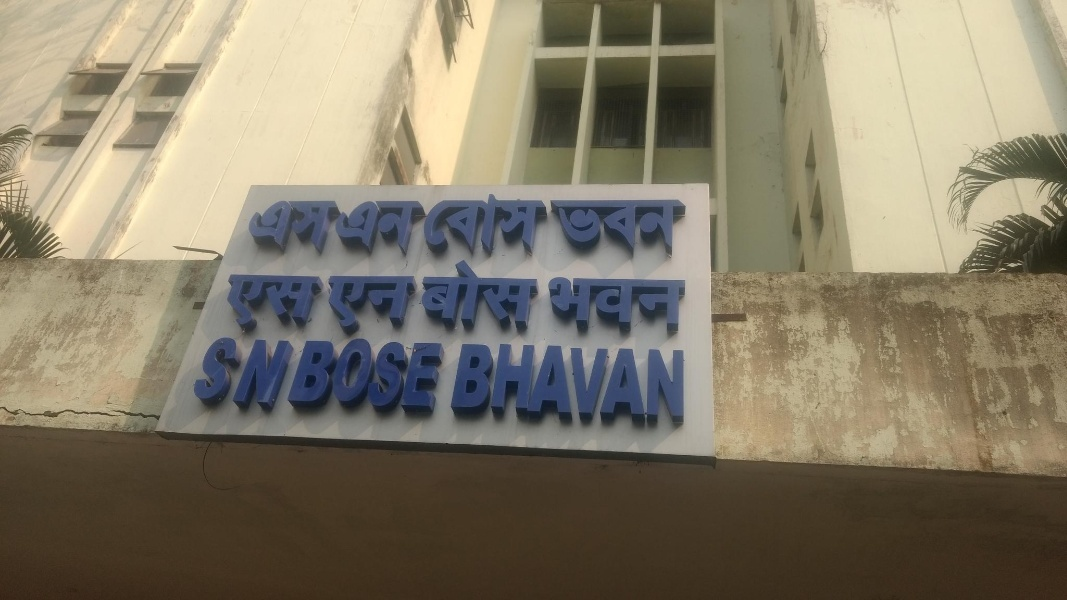text: (465, 342, 480, 432), (481, 342, 496, 432), (497, 342, 512, 432), (513, 342, 528, 432), (529, 342, 544, 432), (545, 342, 560, 432), (561, 342, 576, 432), (577, 342, 592, 432), (593, 342, 608, 432), (609, 342, 624, 432), (625, 342, 640, 432), (641, 342, 656, 432), (657, 342, 672, 432), (673, 342, 688, 432), (321, 340, 336, 423), (337, 340, 352, 423), (353, 340, 368, 423), (369, 340, 384, 423), (385, 340, 400, 423), (401, 340, 416, 423), (417, 340, 432, 423), (257, 335, 272, 417), (273, 335, 288, 417), (225, 335, 240, 415), (433, 257, 448, 337), (449, 257, 464, 337), (465, 257, 480, 337), (481, 257, 496, 337), (497, 257, 512, 337), (513, 257, 528, 337), (529, 257, 544, 337), (306, 340, 320, 423), (353, 189, 368, 260), (369, 189, 384, 260), (385, 189, 400, 260), (401, 189, 416, 260), (211, 335, 224, 415), (433, 195, 448, 262), (449, 195, 464, 262), (465, 195, 480, 262), (481, 195, 496, 262), (497, 195, 512, 262), (513, 195, 528, 262), (529, 195, 544, 262), (433, 340, 445, 423), (561, 196, 576, 260), (577, 196, 592, 260), (593, 196, 608, 260), (609, 196, 624, 260), (625, 196, 640, 260), (641, 196, 656, 260), (657, 196, 672, 260), (673, 196, 688, 260), (337, 276, 352, 340), (353, 276, 368, 340), (369, 276, 384, 340), (385, 276, 400, 340), (401, 276, 416, 340), (225, 271, 240, 334), (241, 271, 256, 334), (257, 271, 272, 334), (273, 271, 288, 334), (289, 271, 304, 334), (305, 271, 320, 334), (417, 189, 430, 260), (673, 280, 689, 337), (257, 197, 272, 257), (273, 197, 288, 257), (289, 197, 304, 257), (305, 197, 320, 257), (321, 197, 336, 257), (561, 280, 576, 337), (577, 280, 592, 337), (593, 280, 608, 337), (609, 280, 624, 337), (625, 280, 640, 337), (641, 280, 656, 337), (657, 280, 672, 337), (340, 189, 352, 260), (289, 335, 299, 417), (550, 196, 560, 260), (424, 257, 432, 337), (241, 335, 248, 415), (551, 280, 560, 337), (337, 197, 345, 257), (459, 342, 464, 432), (329, 276, 336, 340), (321, 271, 328, 334), (545, 195, 550, 262), (253, 335, 256, 417), (689, 342, 691, 432), (545, 257, 547, 337), (430, 195, 432, 262), (417, 276, 419, 340), (254, 197, 256, 257), (689, 196, 690, 260)
